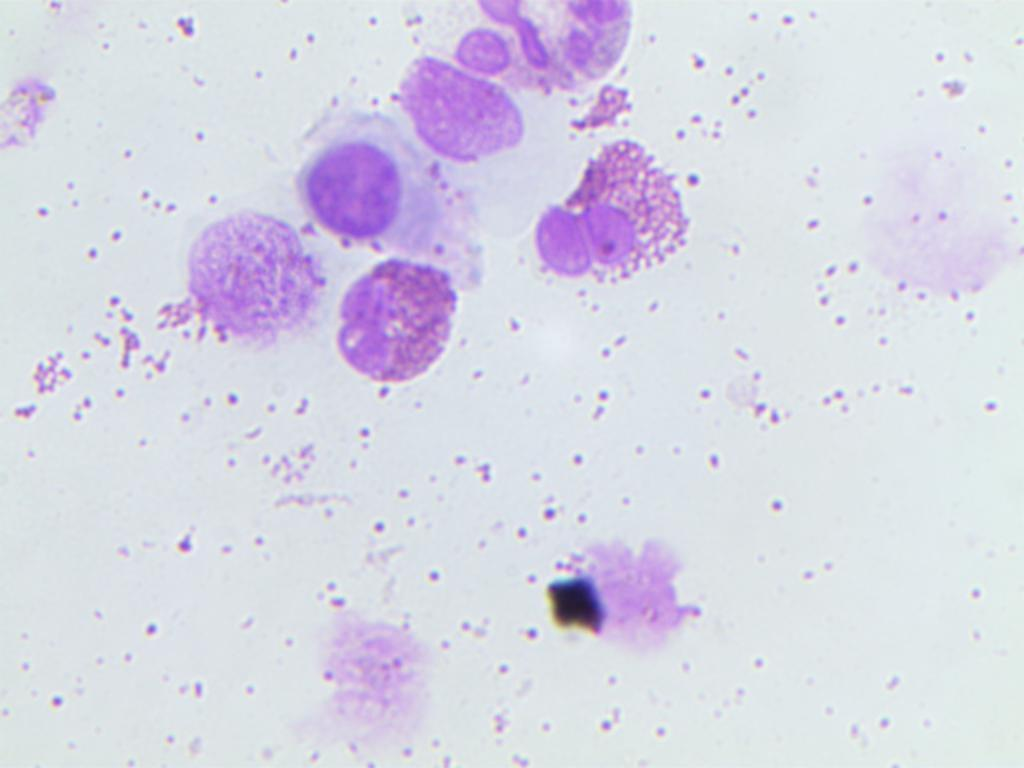artifact: (519, 529, 688, 651)
eosinophil: (527, 138, 702, 294), (317, 255, 462, 384)
epithelial: (153, 207, 311, 338), (382, 51, 519, 169), (297, 121, 414, 245)
neutrophil: (450, 0, 644, 93)
